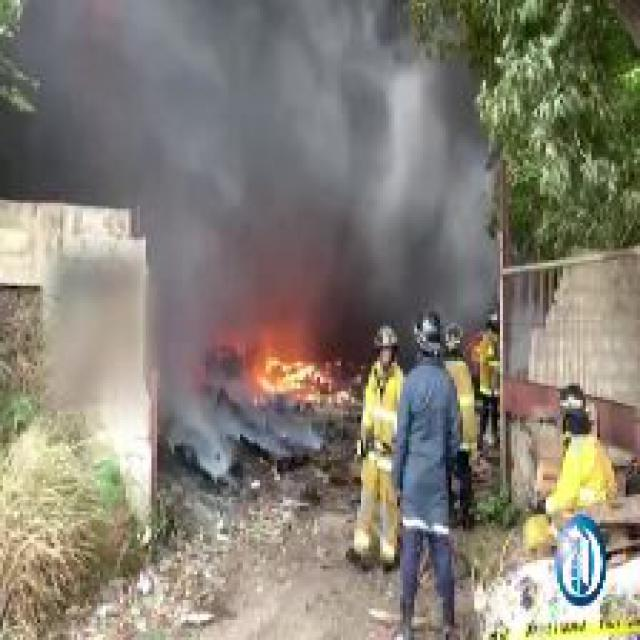fire: (231, 311, 346, 423)
